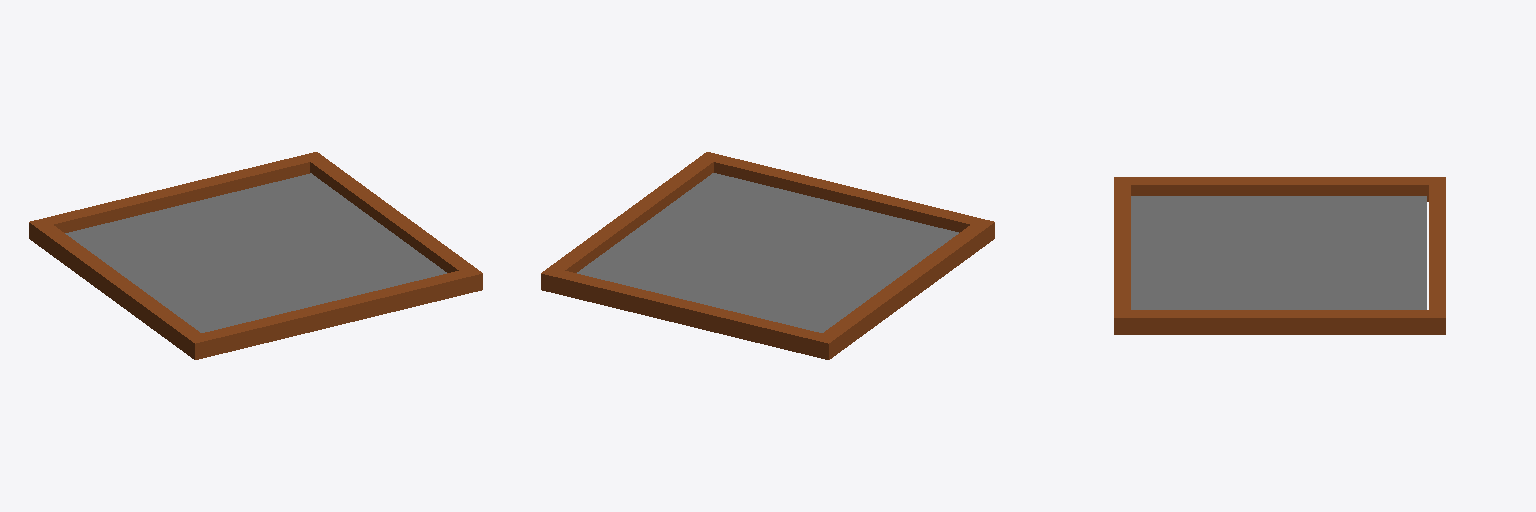
Rendered from tabuleiro.obj.
3 renders of one model, left to right at view 1: azimuth 30°, elevation 25°; view 2: azimuth 150°, elevation 25°; view 3: azimuth 270°, elevation 25°, orthographic.
Visible parts, largest first — view 1: Mesh1 tabuleiro Model, Mesh2 board Model; view 2: Mesh1 tabuleiro Model, Mesh2 board Model; view 3: Mesh1 tabuleiro Model, Mesh2 board Model.
Part boxes in pixels (x1,y1,x2,y2): Mesh1 tabuleiro Model: (65, 173, 446, 332); Mesh2 board Model: (29, 152, 482, 359); Mesh1 tabuleiro Model: (577, 173, 958, 332); Mesh2 board Model: (541, 152, 994, 359); Mesh1 tabuleiro Model: (1131, 196, 1426, 309); Mesh2 board Model: (1114, 177, 1445, 334).
Size of the model in its own units: 5.6 by 0.31 by 5.6.